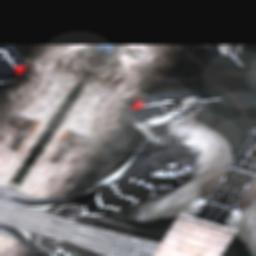Woodpecker: (7, 60, 256, 254)
